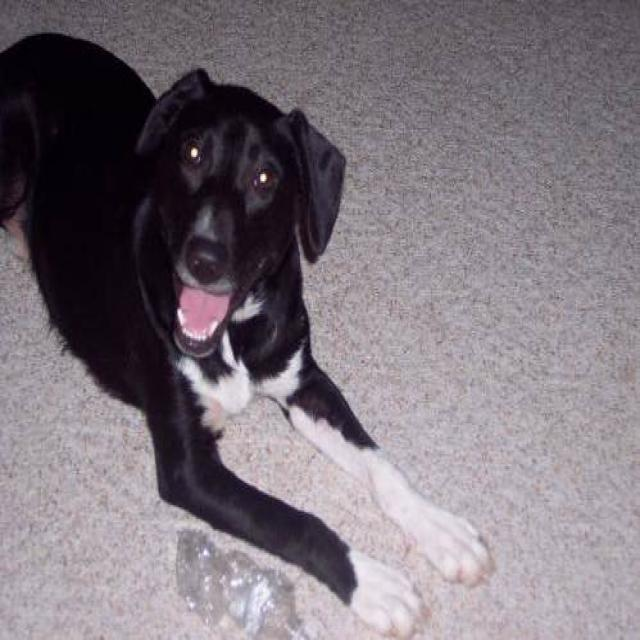dog: (0, 28, 496, 638)
